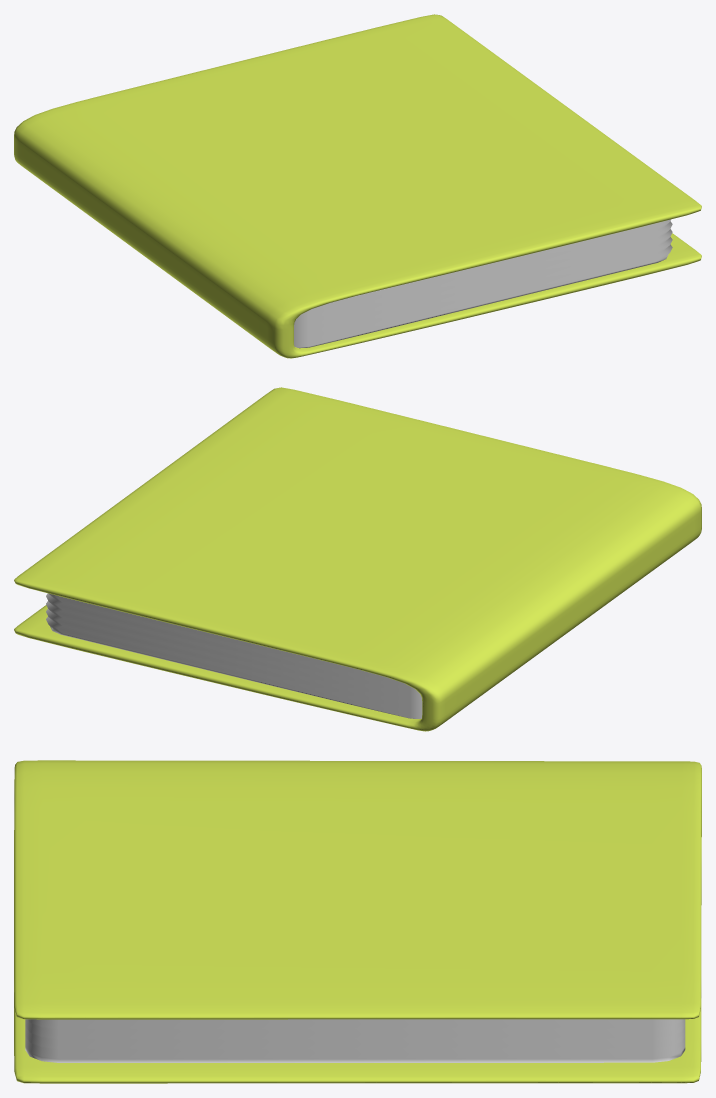
Rendered from kirja3.fbx.
3 renders of one model, top to bottom at view 1: azimuth 30°, elevation 25°; view 2: azimuth 150°, elevation 25°; view 3: azimuth 270°, elevation 25°, orthographic. The views are drawn at different scales.
Parts seen in each view (by area): view 1: kirja.002, sivut.002; view 2: kirja.002, sivut.002; view 3: kirja.002, sivut.002.
Part boxes in pixels (<box>): kirja.002: <box>14,14,701,358</box>; sivut.002: <box>294,219,672,348</box>; kirja.002: <box>14,387,701,731</box>; sivut.002: <box>46,593,422,718</box>; kirja.002: <box>14,760,701,1083</box>; sivut.002: <box>25,1019,685,1062</box>.
Size of the model in its own units: 22.17 by 2.78 by 23.95.
